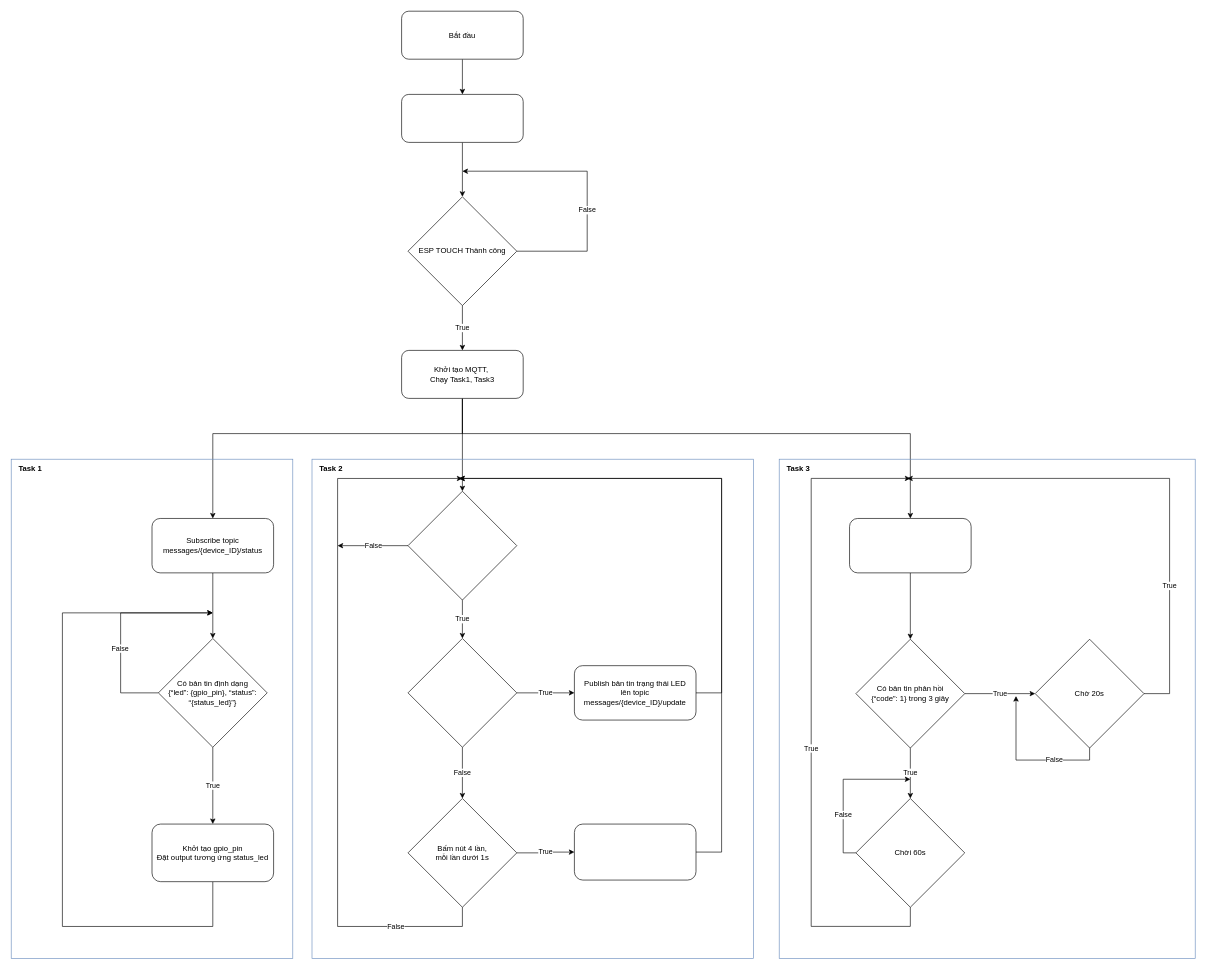
The diagram is 1206 pixels wide and 970 high, and some of its shapes have lost their labels. Here are the shapes that lost their labels. From the top down, the centre of each, then its label:
At point (462, 118): "Chạy Task2: Bấm nút 4 lần để Smart Config".
At point (462, 545): "Bấm nút 2 lần, mỗi lần dưới 1s".
At point (910, 545): "Publish bản tin {“heartbeat”: 1} lên topic messages/{device_ID}/update".
At point (462, 692): "Đã kết nối Internet?".
At point (635, 851): "Stop WiFi Kích hoạt Smart Config, Suspend Task 3, Kết nối MQTT, Resume Task3".
